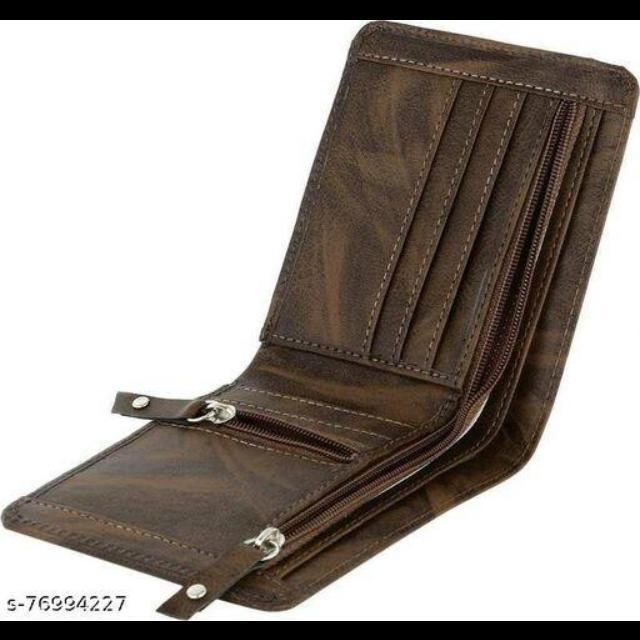wallet: (0, 18, 640, 600)
